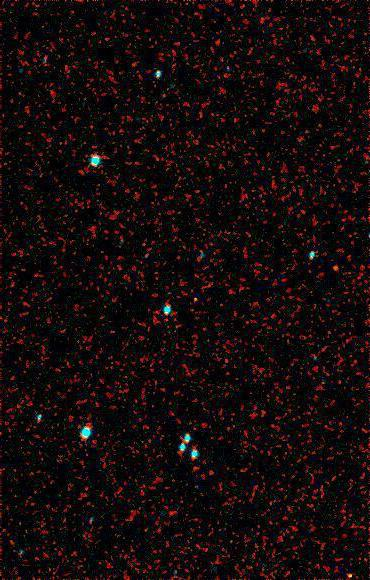star: (322, 253, 352, 283)
